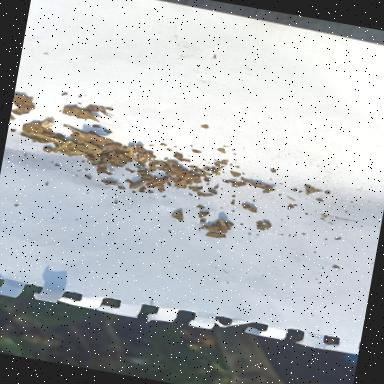pbw: (94, 139, 124, 158), (132, 150, 158, 166), (127, 176, 151, 193), (34, 119, 58, 134)
